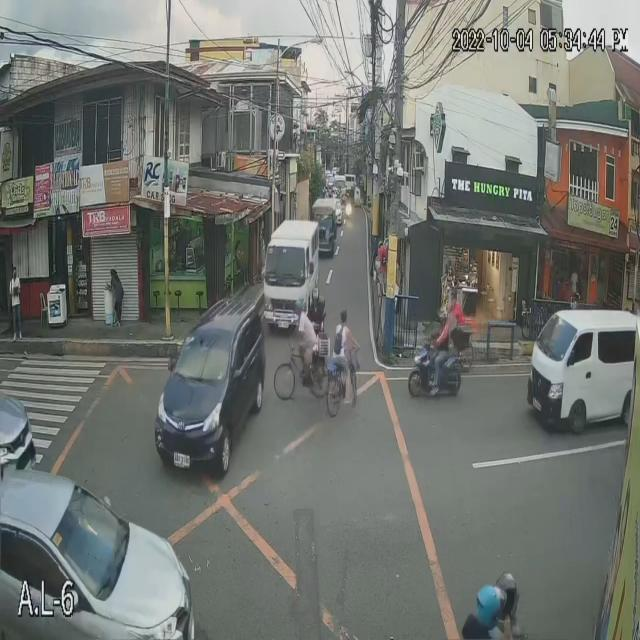half: (476, 586, 506, 629), (499, 572, 519, 620)
